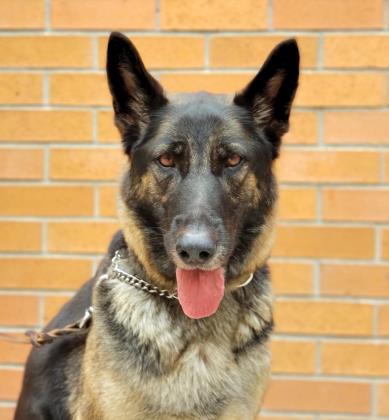dog: (18, 30, 303, 420)
